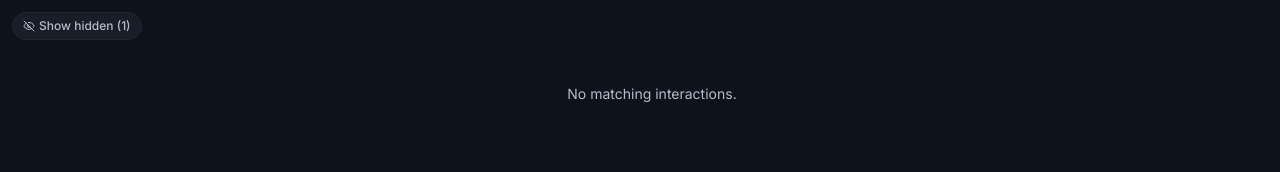
it: timelineShowHidden › keeps the Show-hidden control after hiding, and toggling restores the row
Earlier steps of the test are not shown.
Later steps or results of the test are not shown.
Expected: the text "Voicemail note" is not shown
Step 1. Click the button "Show hidden (1)" → (77, 26), box [12,12,142,40]
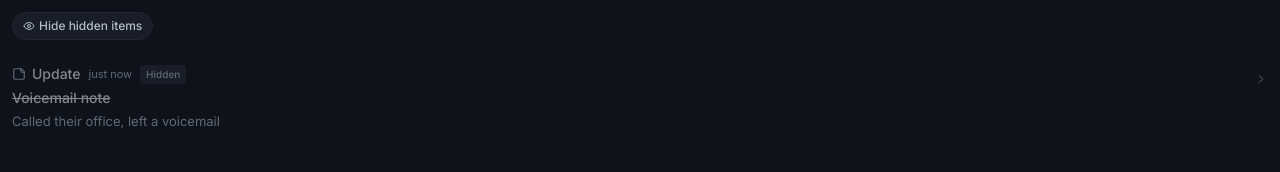
Expected: the text "Voicemail note" is shown, [12,89,110,106]
Expected: the button "Hide hidden items" is shown, [12,12,153,40]
